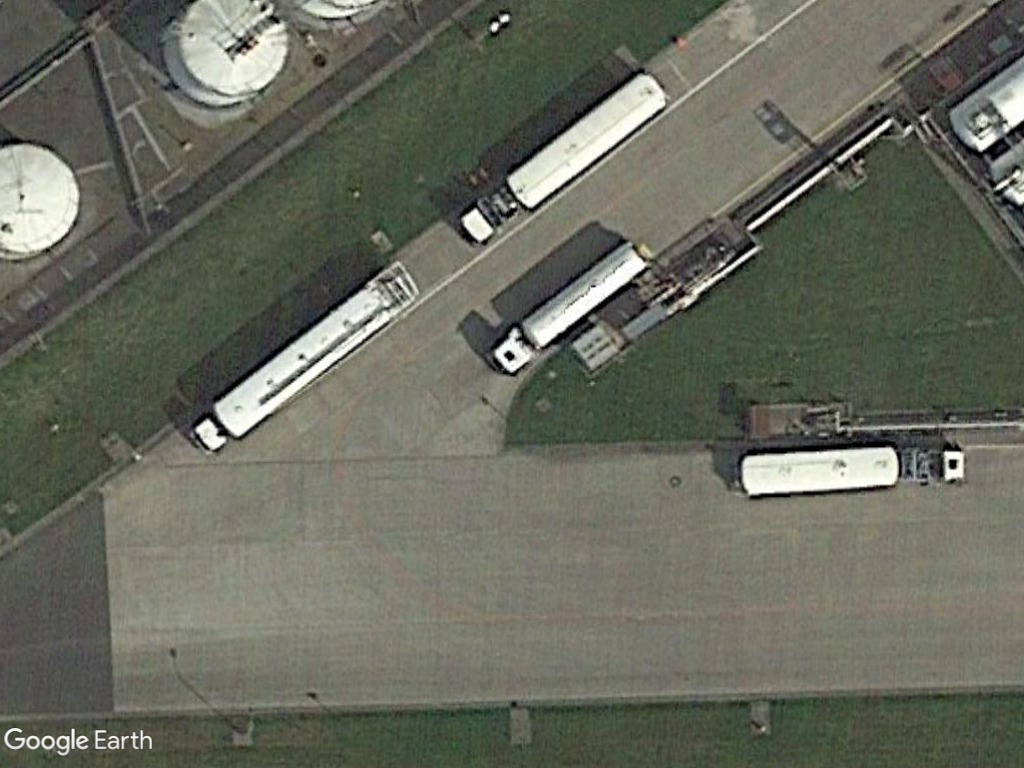longvehicle: (209, 254, 421, 441), (503, 68, 668, 214), (516, 236, 652, 355), (733, 442, 902, 503)
